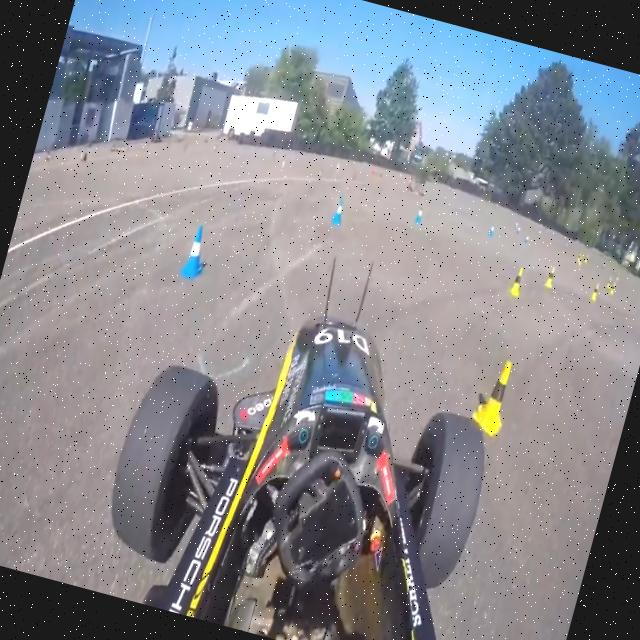blue_cone: (178, 222, 214, 282), (328, 195, 348, 228)
yellow_cone: (468, 354, 520, 437), (507, 264, 526, 298), (542, 264, 558, 288)
